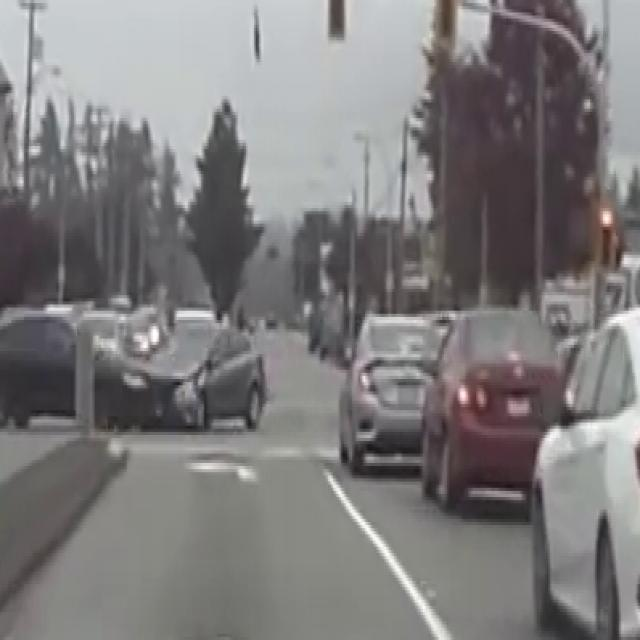accident: (54, 317, 272, 452)
